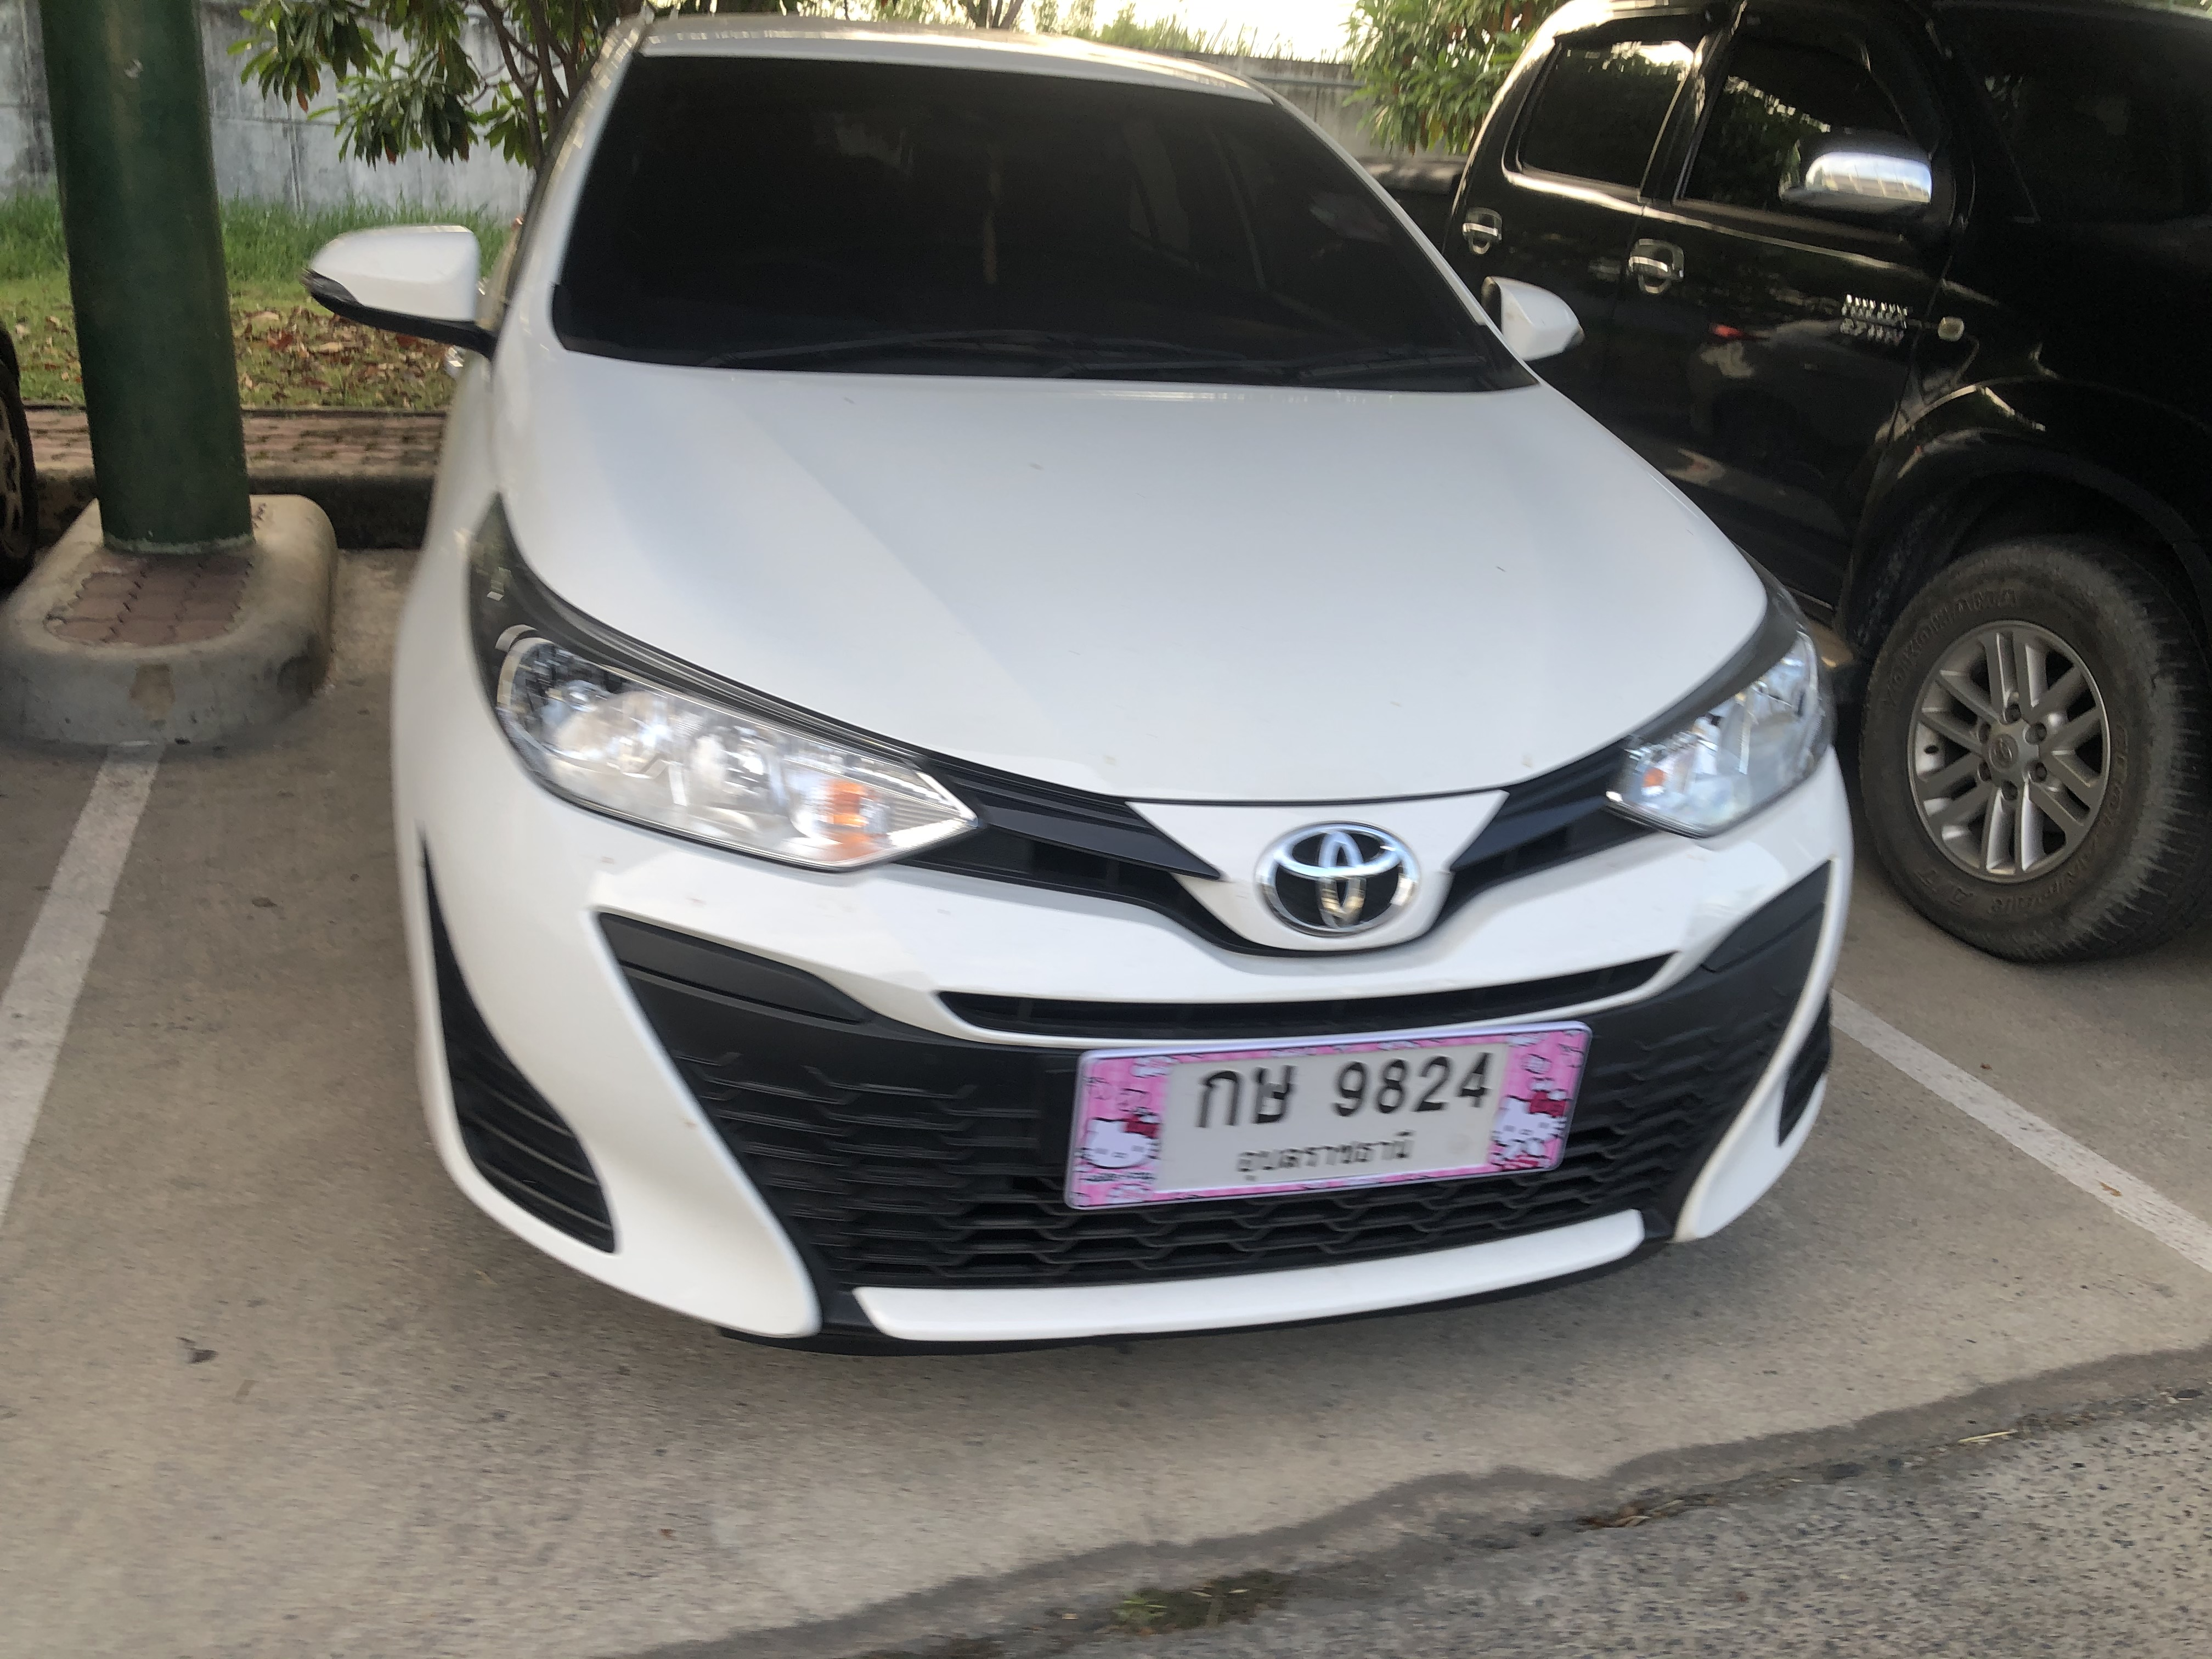in: (1167, 1053, 1496, 1185)
out: (1075, 1030, 1588, 1202)
